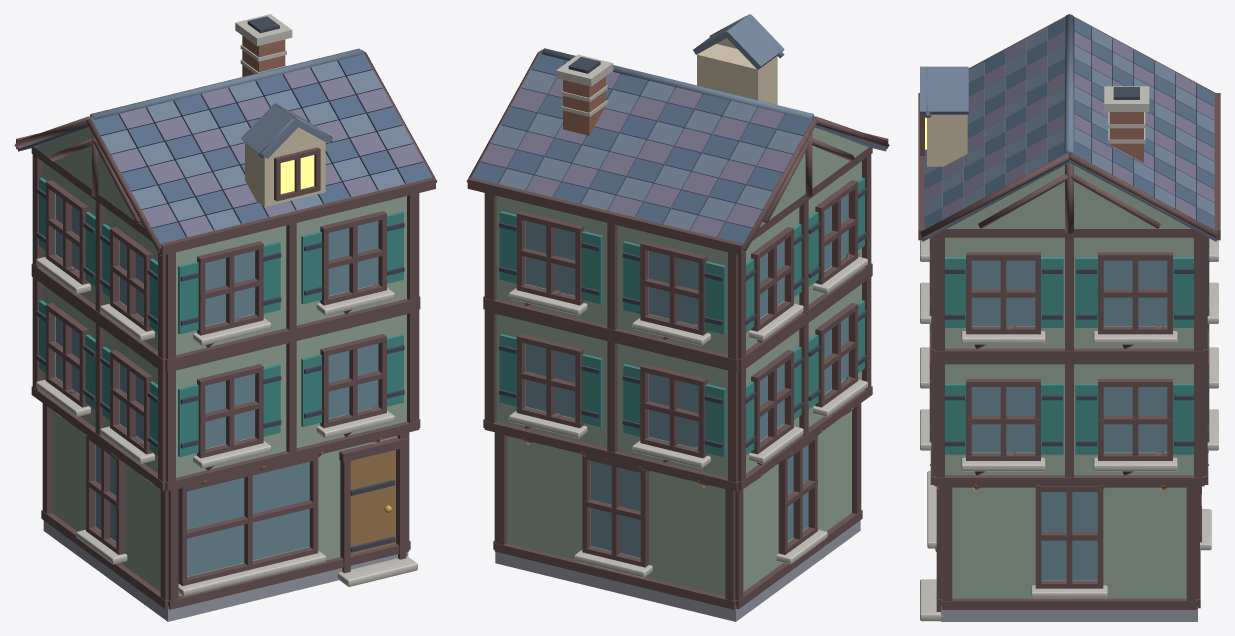
File: house_B.glb
3 renders of one model, left to right at view 1: azimuth 30°, elevation 25°; view 2: azimuth 150°, elevation 25°; view 3: azimuth 270°, elevation 25°, orthographic. The views are drawn at different scales.
Parts seen in each view (by area): view 1: glass_house_B_front_floor0_window0, house_B_front_oak_door, house_B_stone_footing, house_B_eave_fascia, house_B_left_wall.006, house_B_left_wall.001, house_B_front_beam.002, house_B_front_beam.004, house_B_front_beam, glass_house_B_front_floor2_window1, glass_house_B_front_floor1_window1, house_B_gable_infill.001 (+121 smaller); view 2: house_B_back_wall.001, house_B_back_wall.006, house_B_stone_footing, house_B_eave_fascia.001, house_B_dormer_body, glass_house_B_back_floor0_window0, house_B_left_wall.001, house_B_left_wall.006, house_B_back_beam.002, house_B_back_beam.004, house_B_back_beam, glass_house_B_back_floor1_window0 (+123 smaller); view 3: house_B_right_wall.006, house_B_right_wall.001, house_B_gable_infill, glass_house_B_right_floor0_window0, glass_house_B_right_floor2_window0, glass_house_B_right_floor2_window1, glass_house_B_right_floor1_window0, glass_house_B_right_floor1_window1, house_B_right_beam.002, house_B_stone_footing, house_B_right_beam, house_B_right_beam.004 (+85 smaller).
Part boxes in pixels (<box>): glass_house_B_front_floor0_window0: <box>187,461,309,576</box>; house_B_front_oak_door: <box>350,450,395,554</box>; house_B_stone_footing: <box>43,520,408,621</box>; house_B_eave_fascia: <box>160,177,435,255</box>; house_B_left_wall.006: <box>125,464,160,574</box>; house_B_left_wall.001: <box>52,410,95,526</box>; house_B_front_beam.002: <box>165,421,419,491</box>; house_B_front_beam.004: <box>165,298,419,368</box>; house_B_front_beam: <box>168,542,409,609</box>; glass_house_B_front_floor2_window1: <box>328,221,378,295</box>; glass_house_B_front_floor1_window1: <box>328,343,378,418</box>; house_B_gable_infill.001: <box>35,127,144,227</box>; house_B_back_wall.001: <box>506,436,590,545</box>; house_B_back_wall.006: <box>649,471,725,578</box>; house_B_stone_footing: <box>495,520,860,621</box>; house_B_eave_fascia.001: <box>467,177,745,255</box>; house_B_dormer_body: <box>697,44,777,104</box>; glass_house_B_back_floor0_window0: <box>591,461,640,557</box>; house_B_left_wall.001: <box>743,463,778,574</box>; house_B_left_wall.006: <box>808,410,851,526</box>; house_B_back_beam.002: <box>484,421,738,491</box>; house_B_back_beam.004: <box>484,298,738,368</box>; house_B_back_beam: <box>494,542,735,609</box>; glass_house_B_back_floor1_window0: <box>525,343,575,418</box>; house_B_right_wall.006: <box>1103,488,1186,580</box>; house_B_right_wall.001: <box>952,488,1035,580</box>; house_B_gable_infill: <box>947,165,1191,228</box>; glass_house_B_right_floor0_window0: <box>1041,492,1097,580</box>; glass_house_B_right_floor2_window0: <box>971,260,1035,326</box>; glass_house_B_right_floor2_window1: <box>1103,260,1167,326</box>; glass_house_B_right_floor1_window0: <box>971,387,1035,452</box>; glass_house_B_right_floor1_window1: <box>1103,387,1167,452</box>; house_B_right_beam.002: <box>934,475,1204,486</box>; house_B_stone_footing: <box>941,606,1197,621</box>; house_B_right_beam: <box>941,598,1197,609</box>; house_B_right_beam.004: <box>934,348,1204,359</box>.
Bounding box in the file's own units: 5.33 × 8.85 × 4.83.
